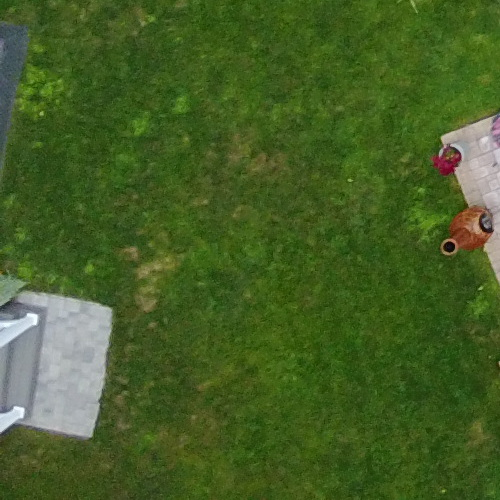flower pot: (425, 136, 467, 187)
no larvae: (423, 134, 465, 185)
